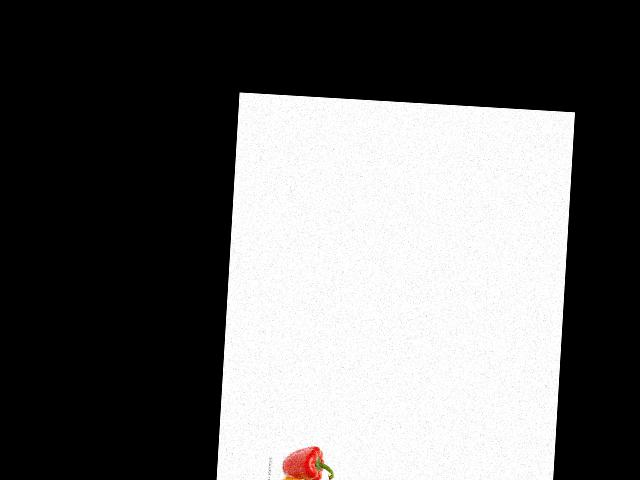bell_pepper: (271, 474, 317, 480)
